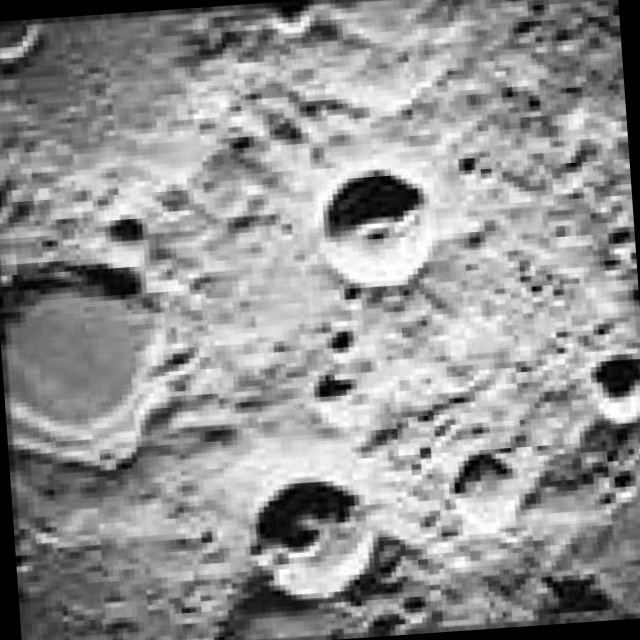crater: (0, 242, 169, 430), (328, 178, 434, 290), (242, 481, 346, 557), (584, 372, 638, 438)
